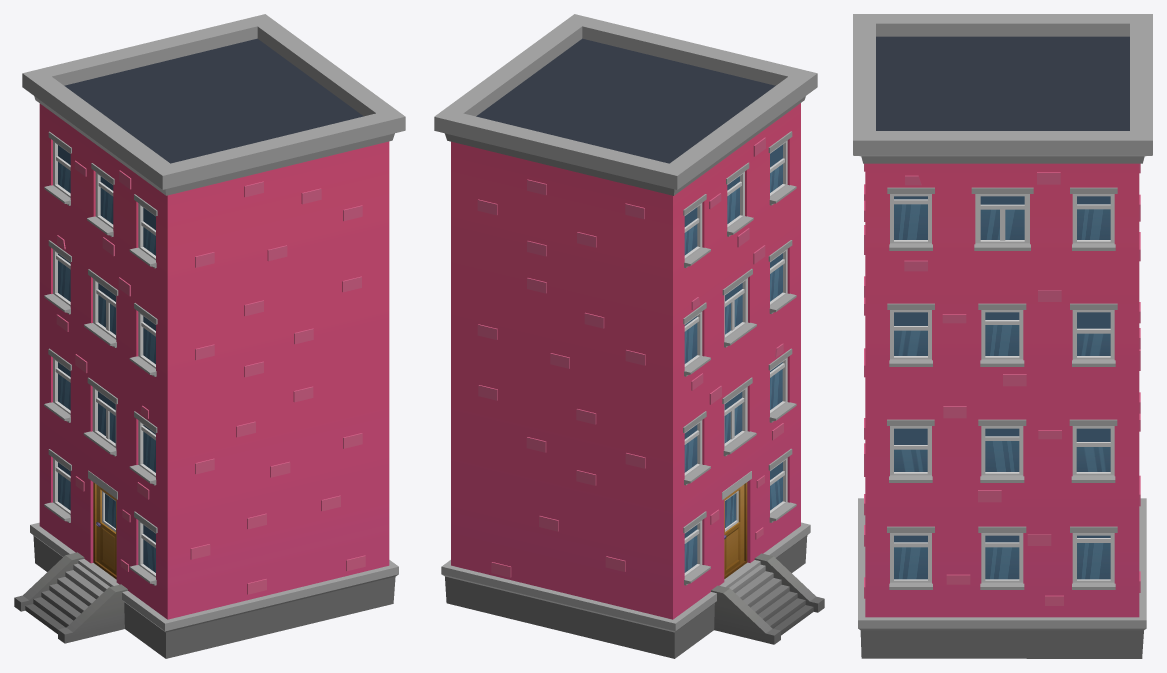
The model's file is Building_2_2_B.fbx.
The picture shows the model from 3 angles, left to right: view 1: azimuth 30°, elevation 25°; view 2: azimuth 150°, elevation 25°; view 3: azimuth 270°, elevation 25°; orthographic projection. The views are drawn at different scales.
Visible parts, largest first — view 1: Building_2_2_B; view 2: Building_2_2_B; view 3: Building_2_2_B.
Part boxes in pixels (bbox=[...]): Building_2_2_B: bbox=[14, 14, 405, 658]; Building_2_2_B: bbox=[434, 14, 824, 658]; Building_2_2_B: bbox=[853, 14, 1152, 658].
Size of the model in its own units: 754 by 1191 by 620.
